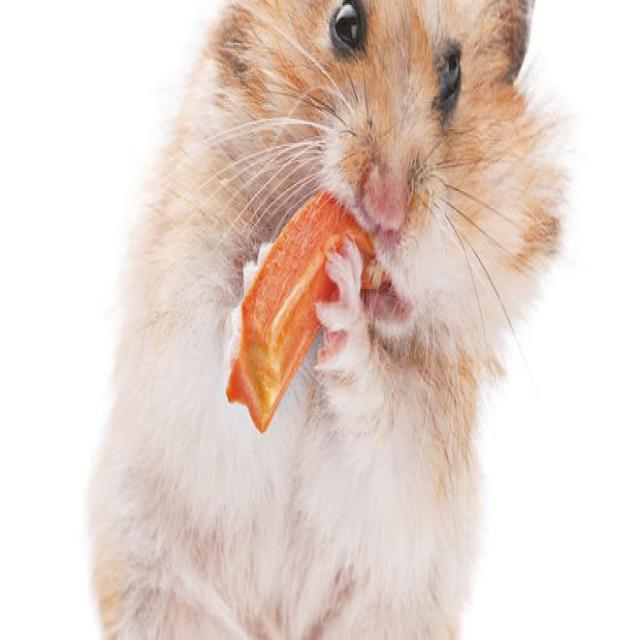hamster: (185, 17, 566, 628)
